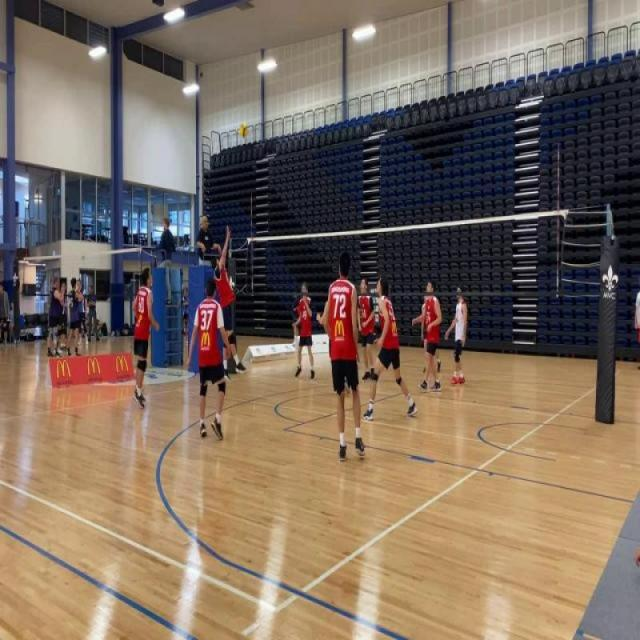volleyball: (238, 119, 250, 140)
